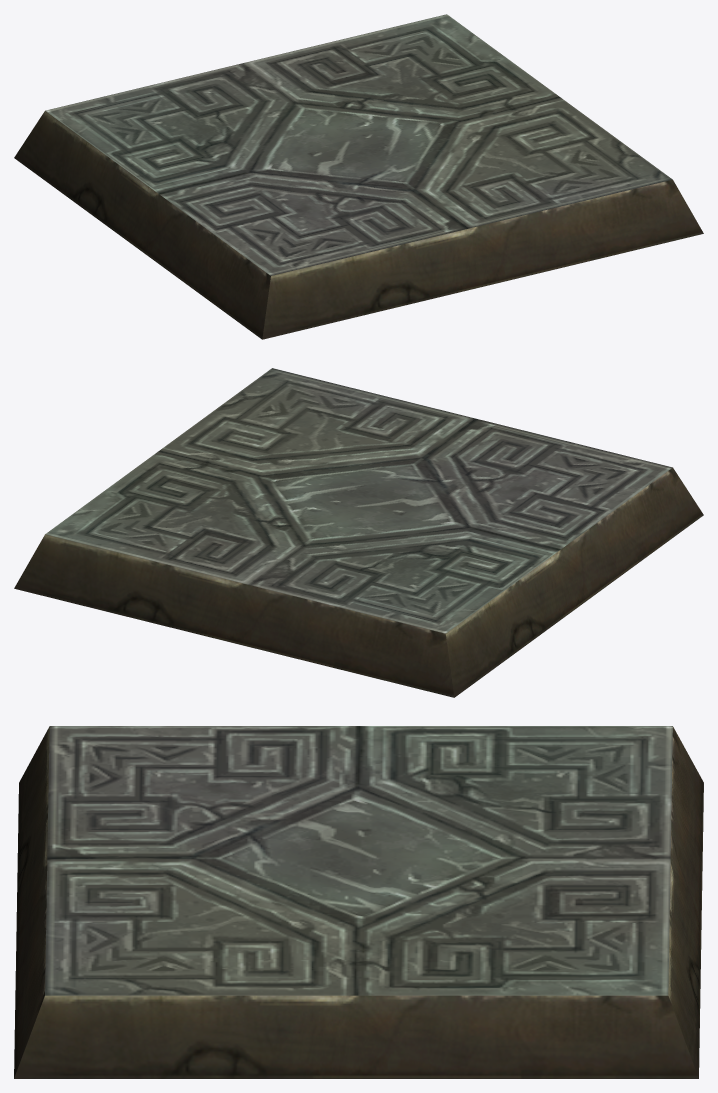
File: F_dizhuan005.fbx
3 renders of one model, top to bottom at view 1: azimuth 30°, elevation 25°; view 2: azimuth 150°, elevation 25°; view 3: azimuth 270°, elevation 25°, orthographic. The views are drawn at different scales.
Visible parts, largest first — view 1: F_dizhuan005; view 2: F_dizhuan005; view 3: F_dizhuan005.
Boxes of the visible parts, box(x1,y1,x2,y2) form: F_dizhuan005: box(14, 14, 703, 339); F_dizhuan005: box(14, 368, 703, 697); F_dizhuan005: box(14, 726, 703, 1078).
Bounding box in the file's own units: 121 × 13.29 × 119.
